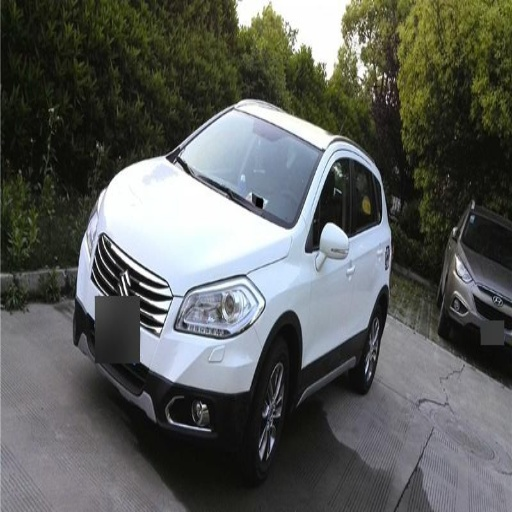front_bumper: (77, 233, 268, 444)
front_glass: (168, 112, 322, 227)
front_left_door: (304, 145, 353, 372)
